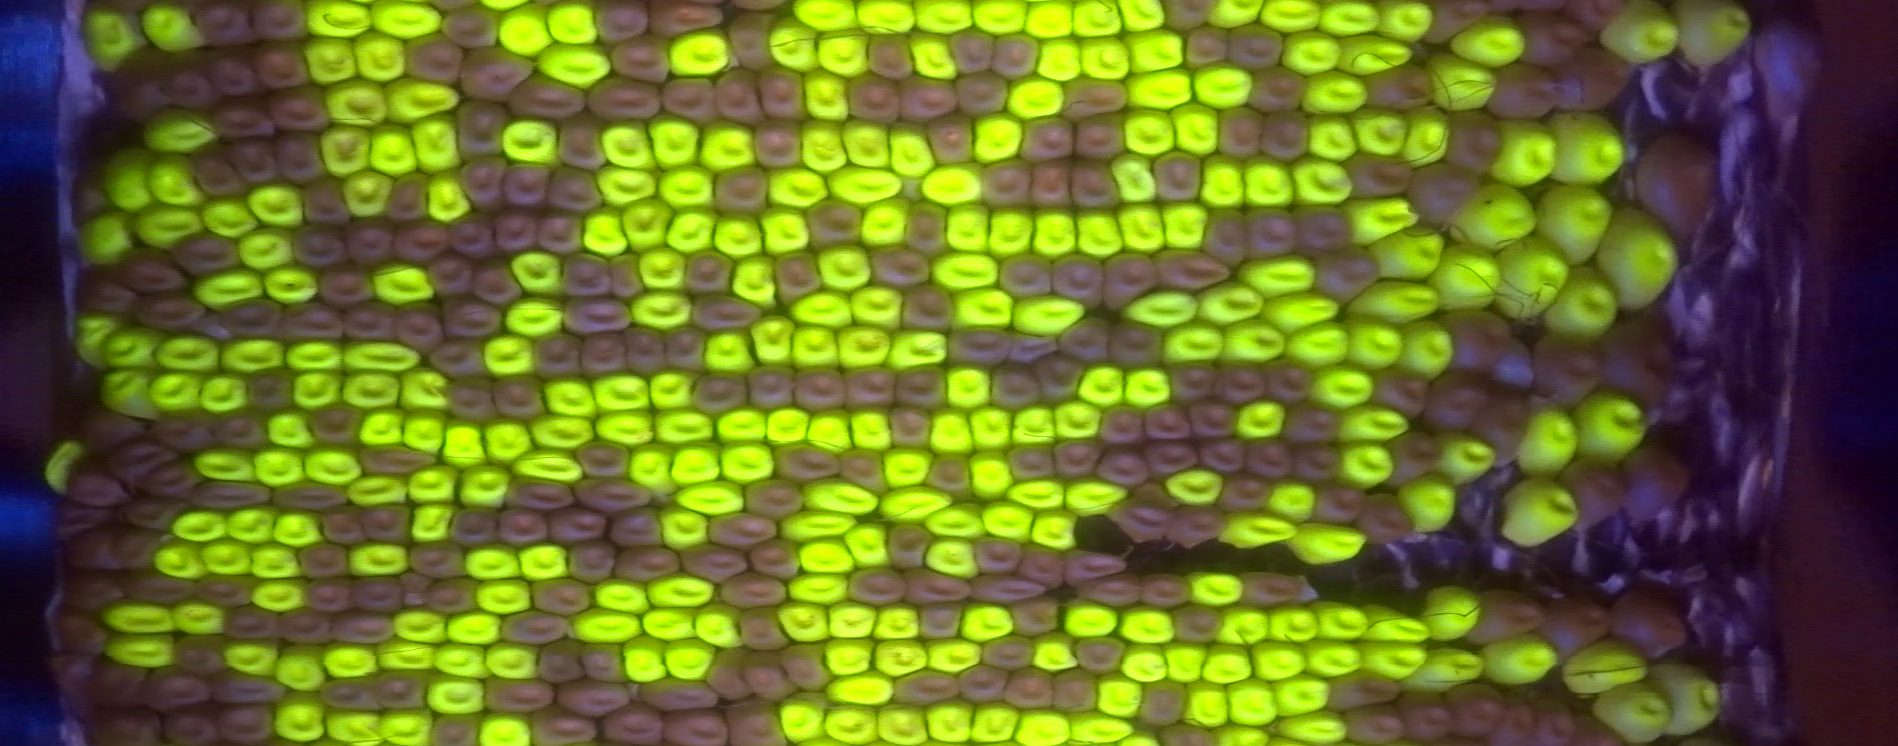fluorescent: (1604, 206, 1679, 311), (1501, 478, 1583, 549), (1450, 185, 1537, 249), (1537, 187, 1610, 260), (1503, 243, 1569, 321), (1649, 662, 1719, 734), (1577, 394, 1640, 467), (1589, 687, 1670, 744), (1599, 4, 1676, 63), (1670, 5, 1749, 63), (1549, 117, 1620, 180), (1561, 644, 1650, 694), (1551, 272, 1612, 343), (1519, 403, 1570, 480), (77, 7, 144, 64), (1499, 116, 1554, 184), (93, 367, 162, 421), (1428, 57, 1495, 110), (1434, 258, 1495, 314), (1405, 649, 1483, 692), (1480, 642, 1554, 685), (1345, 197, 1420, 239), (1378, 225, 1440, 274), (1436, 432, 1488, 489), (804, 477, 878, 517), (1353, 285, 1439, 319), (533, 45, 612, 81), (67, 311, 123, 362), (1454, 22, 1524, 63), (1342, 321, 1401, 369), (321, 82, 387, 124), (145, 110, 215, 149), (1243, 256, 1311, 295), (148, 159, 205, 206), (138, 8, 205, 48), (1290, 157, 1350, 202), (1014, 295, 1085, 333), (1200, 279, 1261, 321), (1269, 292, 1334, 332), (1405, 481, 1459, 529), (77, 217, 134, 262), (1226, 512, 1292, 551), (796, 119, 845, 171), (840, 117, 888, 170), (107, 155, 154, 208), (222, 334, 282, 375), (927, 249, 997, 285), (766, 24, 817, 73), (702, 124, 755, 170), (1246, 157, 1292, 211), (600, 125, 655, 170), (944, 201, 989, 256), (1275, 676, 1329, 721), (1293, 526, 1364, 559), (1157, 325, 1218, 365), (1221, 325, 1282, 365), (1350, 111, 1407, 154), (1072, 206, 1118, 258), (245, 184, 306, 223), (811, 31, 864, 76), (597, 165, 657, 203), (758, 199, 804, 249), (661, 167, 719, 207), (502, 295, 560, 335), (1118, 608, 1177, 648), (425, 675, 487, 712), (1399, 114, 1446, 162), (859, 197, 905, 247), (787, 329, 836, 375), (775, 693, 826, 738), (107, 329, 159, 373), (1401, 329, 1453, 373), (340, 173, 393, 216), (100, 604, 172, 636), (955, 289, 1010, 331), (927, 408, 973, 457), (672, 34, 727, 74), (408, 125, 458, 170), (1125, 111, 1174, 156), (1424, 591, 1473, 636), (272, 696, 322, 741), (399, 368, 450, 412), (619, 642, 669, 685), (513, 452, 583, 483), (852, 285, 904, 327), (373, 264, 433, 300), (512, 249, 565, 291), (1269, 716, 1351, 742), (767, 170, 826, 207), (139, 208, 203, 242), (1180, 681, 1226, 728), (320, 126, 368, 171), (649, 121, 697, 166), (1313, 371, 1375, 406), (1316, 601, 1365, 644), (924, 539, 979, 578), (887, 124, 930, 174), (582, 205, 625, 256), (303, 41, 355, 82), (506, 124, 558, 165), (980, 501, 1033, 543), (1302, 78, 1365, 111), (818, 249, 872, 289), (1371, 2, 1432, 38), (921, 167, 982, 202), (1131, 292, 1197, 323), (307, 4, 369, 38), (712, 214, 763, 256), (163, 335, 215, 375), (343, 340, 420, 367), (1202, 159, 1247, 205), (1112, 153, 1157, 199), (533, 417, 596, 449), (803, 75, 851, 117), (1226, 685, 1275, 728), (1007, 80, 1065, 115), (1284, 34, 1335, 74), (172, 596, 223, 636), (475, 580, 530, 616), (874, 639, 930, 676), (1340, 44, 1407, 74), (834, 168, 901, 199), (1133, 71, 1192, 105), (1066, 480, 1126, 513), (730, 260, 775, 305), (1093, 677, 1138, 722), (1056, 401, 1102, 444), (1169, 110, 1217, 153), (381, 85, 456, 111), (704, 332, 758, 369), (1315, 2, 1378, 34), (1289, 327, 1344, 363), (1126, 38, 1181, 73), (201, 200, 257, 235), (655, 412, 711, 447), (913, 36, 957, 80), (974, 117, 1020, 160), (620, 197, 666, 240), (990, 208, 1031, 256), (788, 293, 850, 325), (588, 379, 650, 411), (793, 544, 855, 575), (196, 272, 260, 303), (1197, 70, 1250, 107), (1117, 212, 1166, 252), (305, 451, 362, 484), (499, 15, 548, 53), (176, 507, 225, 546), (1358, 645, 1421, 676), (370, 7, 436, 36), (696, 607, 740, 650), (278, 649, 323, 692), (1220, 606, 1267, 645), (540, 380, 593, 415), (321, 644, 374, 679), (816, 639, 869, 675), (192, 449, 252, 481), (715, 407, 766, 443), (965, 458, 1016, 494), (327, 710, 381, 744), (368, 131, 413, 172), (841, 329, 888, 368), (888, 335, 947, 367), (1340, 411, 1403, 440), (842, 529, 890, 568), (379, 639, 431, 675), (1064, 606, 1116, 641), (881, 493, 947, 521), (957, 607, 1013, 639), (777, 604, 826, 642), (427, 174, 468, 218), (485, 332, 529, 373), (1164, 197, 1204, 242), (749, 319, 789, 363), (629, 446, 674, 486), (968, 701, 1013, 741), (484, 644, 539, 677), (908, 2, 974, 29), (926, 635, 973, 672), (1167, 471, 1219, 505), (629, 294, 688, 325), (1367, 609, 1427, 638), (345, 375, 401, 407), (107, 638, 169, 666), (1311, 116, 1352, 159), (658, 506, 701, 547), (724, 444, 773, 480), (439, 424, 479, 467), (1345, 449, 1388, 489), (44, 442, 84, 486), (360, 39, 404, 78), (153, 373, 197, 412), (1256, 643, 1302, 681), (1022, 1, 1072, 35), (826, 710, 876, 744), (928, 507, 985, 538), (1076, 368, 1123, 404), (461, 467, 508, 504), (665, 644, 712, 681), (1018, 707, 1065, 744), (246, 585, 310, 612), (1033, 216, 1075, 256), (782, 576, 849, 602), (855, 2, 913, 31), (246, 546, 301, 576), (462, 549, 518, 579), (548, 8, 598, 42), (1079, 44, 1128, 78), (640, 251, 685, 288), (225, 643, 278, 675), (393, 610, 447, 642), (1261, 2, 1318, 31), (596, 583, 652, 612), (376, 713, 431, 744), (485, 421, 527, 461), (970, 409, 1010, 451), (1016, 404, 1054, 447), (1272, 481, 1315, 520), (1189, 573, 1241, 604), (1164, 644, 1209, 681), (153, 544, 202, 576), (968, 5, 1026, 33), (1075, 2, 1121, 38), (266, 268, 317, 299), (943, 369, 990, 403), (880, 708, 927, 742), (793, 1, 858, 25), (351, 543, 406, 572), (438, 645, 482, 682), (671, 449, 715, 484), (1036, 44, 1082, 78), (675, 489, 740, 513), (672, 211, 711, 251), (930, 704, 970, 742), (229, 510, 271, 546), (829, 606, 874, 639), (349, 476, 406, 503), (1204, 650, 1250, 683), (517, 546, 566, 576), (1240, 401, 1281, 437), (648, 373, 690, 408), (240, 234, 287, 265), (286, 344, 339, 372), (1207, 1, 1265, 27), (410, 469, 454, 503), (1033, 515, 1076, 549), (293, 374, 341, 404), (1035, 635, 1080, 667), (648, 583, 711, 606), (596, 415, 652, 441), (1070, 713, 1127, 739), (481, 715, 530, 744), (579, 615, 638, 639), (829, 677, 888, 701), (199, 380, 246, 411), (266, 415, 314, 446), (1309, 645, 1362, 672), (1273, 612, 1318, 643), (809, 412, 849, 447), (781, 515, 845, 536), (255, 452, 301, 482), (274, 513, 320, 544), (205, 543, 251, 573), (644, 612, 694, 639), (443, 616, 500, 641), (402, 417, 441, 452), (882, 453, 928, 482), (876, 607, 919, 638), (360, 413, 399, 446), (1125, 373, 1169, 402), (852, 415, 892, 447), (1117, 1, 1164, 27), (1121, 652, 1168, 677), (409, 509, 450, 538), (767, 411, 803, 444), (1010, 483, 1062, 505), (1218, 724, 1269, 744), (481, 1, 528, 8)
nonfluorescent: (1756, 8, 1835, 116), (1638, 130, 1714, 239), (1609, 319, 1674, 406), (1616, 591, 1693, 660), (1627, 446, 1690, 526), (1440, 309, 1514, 374), (1534, 329, 1599, 401), (1559, 461, 1626, 528), (1469, 587, 1549, 639), (1491, 64, 1564, 120), (1570, 45, 1630, 111), (1409, 162, 1469, 224), (111, 54, 169, 117), (1431, 368, 1488, 432), (1482, 386, 1525, 467), (439, 295, 513, 342), (477, 670, 554, 713), (1551, 602, 1614, 655), (1367, 61, 1439, 107), (1523, 13, 1586, 65), (462, 48, 527, 99), (1446, 111, 1500, 172), (1309, 251, 1376, 297), (1049, 249, 1104, 306), (1246, 203, 1299, 262), (586, 80, 665, 119), (454, 98, 507, 155), (1154, 249, 1226, 291), (192, 1, 255, 48), (1100, 251, 1155, 305), (514, 79, 591, 117), (86, 710, 167, 746), (629, 679, 726, 710), (71, 270, 140, 312), (1350, 153, 1411, 200), (297, 179, 358, 226), (648, 1, 727, 38), (677, 541, 750, 580), (127, 249, 192, 293), (1425, 1, 1486, 47), (356, 444, 439, 478), (752, 69, 809, 119), (790, 366, 850, 413), (215, 299, 283, 340), (896, 74, 956, 120), (1249, 70, 1315, 113), (715, 70, 766, 125), (895, 361, 950, 411), (1064, 74, 1131, 115), (731, 11, 776, 71), (1451, 685, 1505, 736), (1075, 163, 1129, 213), (951, 70, 1013, 114), (268, 88, 329, 132), (215, 704, 281, 745), (803, 197, 859, 245), (533, 639, 591, 685), (500, 476, 579, 510), (593, 1, 652, 46), (345, 217, 398, 266), (445, 207, 494, 262), (77, 407, 145, 446), (1227, 25, 1284, 71), (1296, 203, 1353, 249), (556, 253, 612, 299), (611, 40, 673, 82), (253, 41, 311, 86), (1108, 325, 1166, 369), (248, 1, 311, 42), (688, 293, 757, 331), (579, 331, 629, 381), (67, 465, 126, 509), (1172, 504, 1231, 547), (144, 668, 203, 712), (1155, 149, 1204, 201), (850, 75, 903, 124), (749, 122, 803, 171), (1378, 366, 1425, 420), (1029, 154, 1075, 210), (550, 170, 606, 214), (707, 515, 782, 549), (890, 671, 965, 705), (727, 696, 778, 746), (104, 443, 163, 486), (391, 216, 445, 262), (707, 652, 753, 706), (213, 670, 280, 707), (783, 639, 828, 695), (663, 711, 740, 744), (195, 478, 274, 510), (136, 295, 203, 332), (378, 667, 429, 716), (777, 443, 842, 481), (495, 378, 550, 423), (176, 231, 238, 270), (444, 379, 500, 423), (278, 302, 339, 342), (772, 252, 821, 302), (1264, 111, 1315, 159), (157, 413, 217, 453), (870, 249, 933, 287), (1347, 706, 1410, 744), (272, 136, 328, 178), (61, 528, 116, 570), (926, 120, 974, 168), (1369, 498, 1417, 546), (666, 70, 715, 117), (982, 160, 1029, 210), (444, 8, 501, 50), (1019, 117, 1076, 159), (553, 122, 604, 168), (1218, 107, 1264, 157), (472, 262, 524, 306), (534, 329, 579, 381), (294, 226, 352, 266), (612, 546, 680, 580), (744, 480, 810, 515), (1076, 113, 1125, 160), (385, 173, 433, 220), (560, 302, 639, 331), (1405, 695, 1453, 744), (1531, 696, 1580, 744), (491, 203, 536, 254), (1001, 253, 1052, 298), (358, 503, 410, 546), (1047, 668, 1099, 712), (680, 249, 734, 292), (1242, 570, 1306, 606), (905, 572, 970, 607), (1204, 210, 1246, 264), (579, 480, 652, 510), (846, 365, 895, 411), (1286, 406, 1341, 446), (48, 653, 98, 698), (408, 35, 459, 79), (721, 574, 789, 607), (311, 271, 374, 306), (274, 480, 346, 510), (126, 574, 199, 604), (1334, 673, 1407, 704), (665, 321, 704, 375), (314, 400, 361, 446), (497, 606, 566, 637), (1024, 543, 1069, 591), (209, 54, 259, 98), (1261, 357, 1311, 401), (907, 203, 945, 259), (148, 460, 203, 499), (551, 505, 606, 544), (1117, 497, 1168, 539), (168, 54, 209, 107), (989, 365, 1041, 406), (579, 442, 635, 480), (697, 374, 750, 414), (461, 159, 507, 205), (749, 365, 794, 412), (99, 665, 144, 712), (339, 302, 397, 338), (320, 679, 378, 716), (865, 35, 915, 78), (58, 572, 120, 606), (163, 708, 219, 746), (604, 708, 663, 744), (750, 540, 803, 580), (211, 411, 268, 447), (214, 99, 268, 138), (402, 297, 441, 350), (610, 511, 663, 550), (1186, 23, 1232, 68), (905, 285, 951, 329), (330, 609, 393, 642), (531, 713, 594, 746), (1392, 436, 1440, 478), (1145, 437, 1200, 475), (951, 329, 1010, 365), (535, 214, 586, 254), (970, 573, 1042, 601), (749, 645, 786, 701), (1064, 549, 1128, 580), (627, 326, 666, 378), (199, 151, 247, 193), (1168, 363, 1219, 402), (115, 530, 166, 569), (228, 604, 278, 643), (406, 543, 461, 578), (1135, 574, 1191, 609), (301, 576, 353, 614), (853, 569, 905, 607), (251, 371, 297, 413), (1190, 403, 1243, 440), (1069, 315, 1108, 365), (554, 684, 629, 710), (740, 607, 784, 649), (320, 503, 361, 549), (1005, 670, 1051, 711), (52, 614, 104, 650), (951, 28, 1000, 67), (1041, 357, 1080, 406), (1294, 442, 1344, 480), (432, 342, 489, 374), (534, 578, 588, 612), (930, 452, 974, 493), (502, 162, 550, 201), (972, 535, 1019, 574), (278, 609, 330, 644), (715, 167, 764, 205), (425, 260, 475, 297), (501, 507, 551, 544), (452, 507, 501, 544), (980, 638, 1040, 668), (1082, 574, 1144, 603), (353, 579, 404, 614), (1103, 406, 1149, 444), (199, 574, 259, 603), (611, 252, 646, 302), (1318, 484, 1368, 520), (1001, 34, 1041, 78), (1056, 438, 1099, 478), (919, 601, 964, 639), (1017, 596, 1062, 635), (566, 543, 612, 580), (295, 540, 347, 573), (893, 406, 933, 448), (586, 641, 625, 684), (238, 137, 276, 182), (70, 163, 105, 211), (1499, 699, 1534, 746), (117, 499, 174, 528), (1183, 603, 1225, 642), (1143, 682, 1185, 721), (1146, 401, 1190, 438), (891, 526, 927, 570), (961, 666, 1007, 701), (1217, 368, 1264, 402), (1161, 1, 1213, 31), (1099, 453, 1149, 484), (1075, 641, 1122, 673), (1226, 474, 1269, 510), (177, 637, 220, 672), (429, 580, 475, 613), (1201, 436, 1248, 467), (842, 451, 882, 487), (1008, 444, 1054, 476), (1250, 438, 1292, 474), (1008, 332, 1052, 365), (431, 713, 475, 746), (401, 569, 431, 612), (1578, 718, 1618, 746), (1164, 724, 1208, 746)
